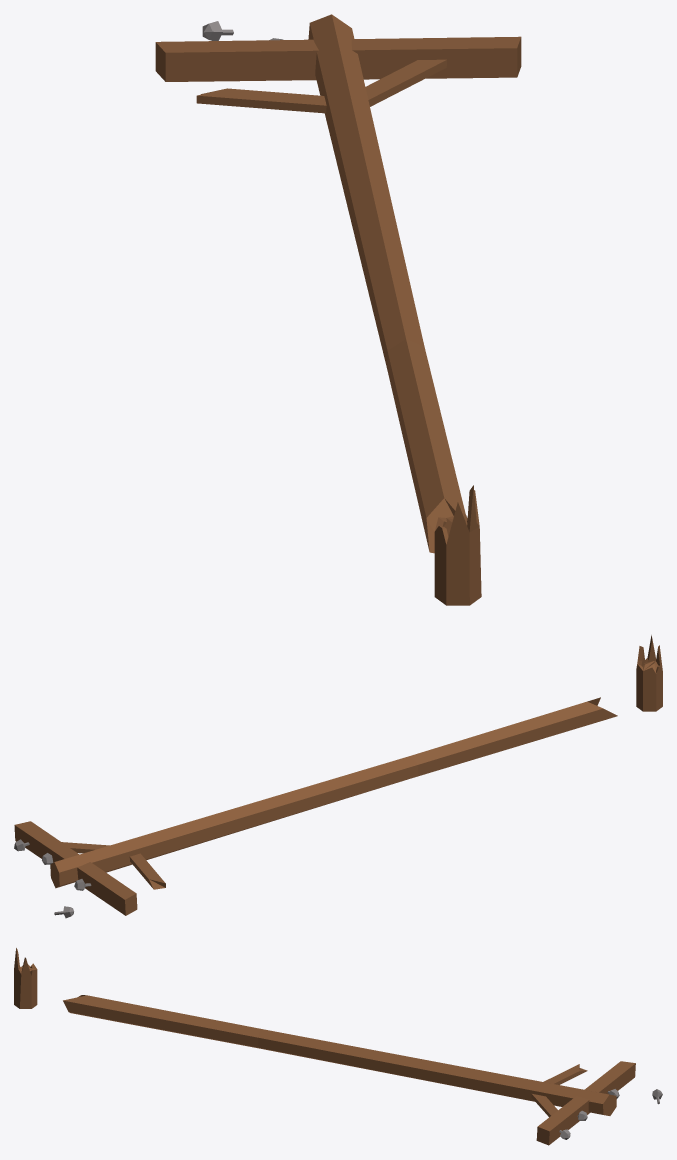
File: pole-electric-apocalypse-b.fbx
The picture shows the model from 3 angles, top to bottom: view 1: azimuth 30°, elevation 25°; view 2: azimuth 150°, elevation 25°; view 3: azimuth 270°, elevation 25°; orthographic projection. The views are drawn at different scales.
Visible parts, largest first — view 1: pole-electric-apocalypse-b; view 2: pole-electric-apocalypse-b; view 3: pole-electric-apocalypse-b.
Boxes of the visible parts, left/top/right/bottom form: pole-electric-apocalypse-b: left=155, top=14, right=521, bottom=605; pole-electric-apocalypse-b: left=14, top=635, right=662, bottom=918; pole-electric-apocalypse-b: left=14, top=948, right=662, bottom=1145.
Size of the model in its own units: 4.53 by 0.8508 by 8.42.
